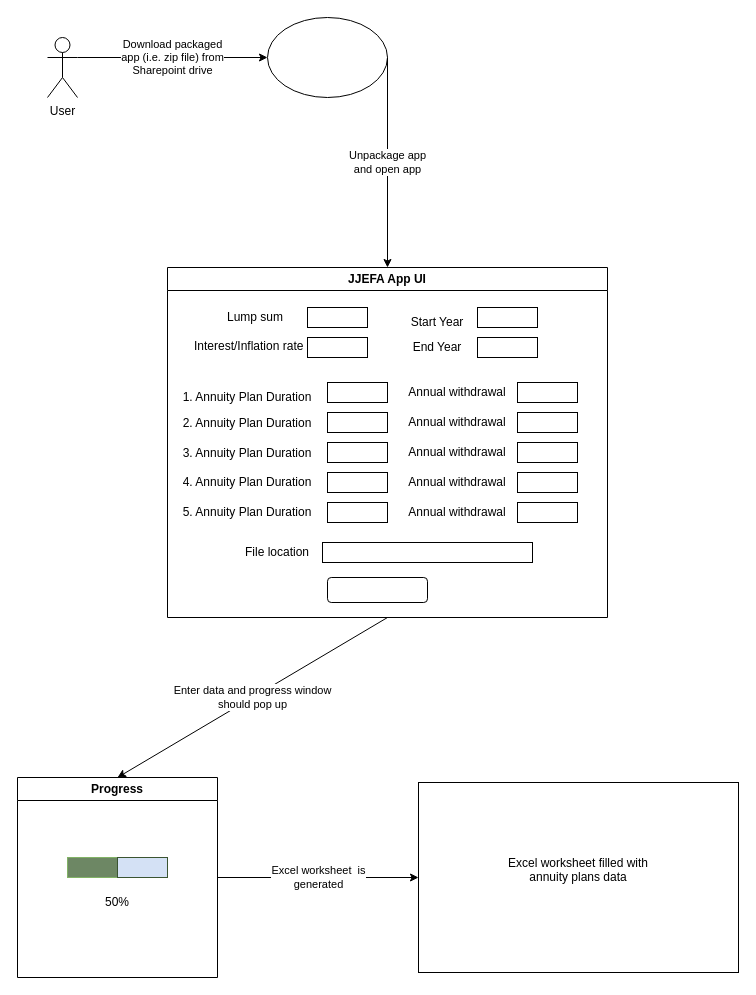
Image size: 756x995. Some labels were removed from this diagram. Each missing label, with the centre of its shape:
"Packaged app" belongs at [327,57].
"Submit" belongs at [377,589].
